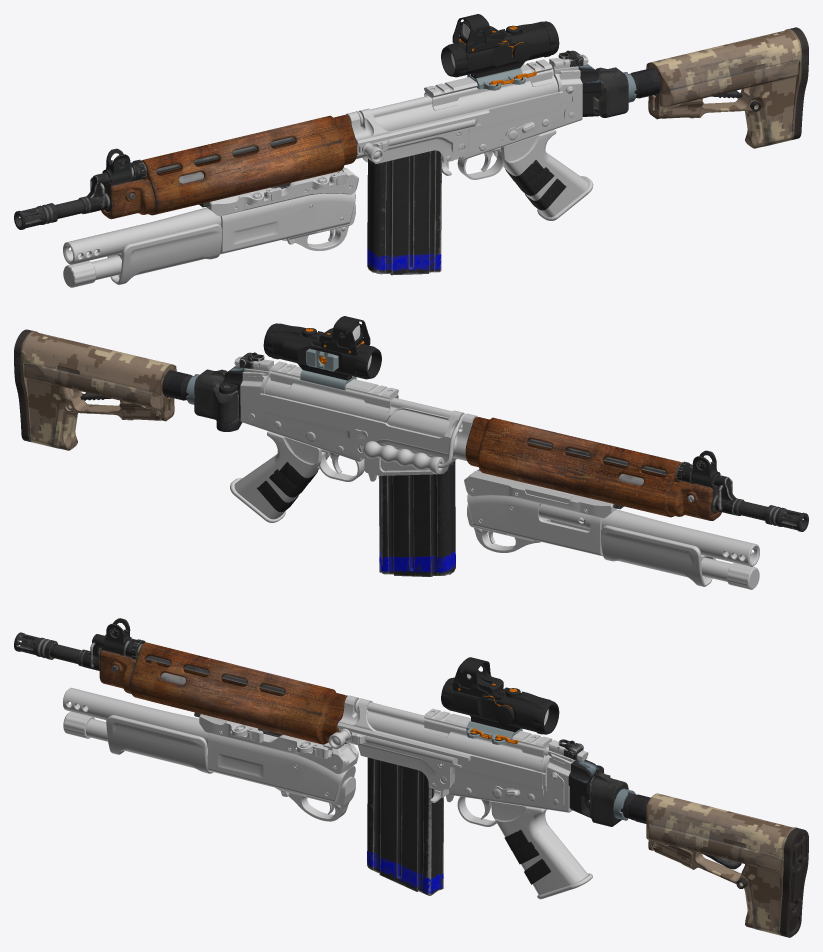
Rendered from FAL_FN_BeefEater_1.0.fbx.
3 views of the same model, one above another, from view 1: azimuth 30°, elevation 25°; view 2: azimuth 150°, elevation 25°; view 3: azimuth 330°, elevation 25° (orthographic).
Parts seen in each view (by area): view 1: Body 1, Masterkey 1, Forend, Heavy Stock, Magazine, Hybrid Scope, Stock Adapter, Body 2, Grip Tape, Muzzle Brake, Short Barrel; view 2: Body 1, Masterkey 1, Forend, Heavy Stock, Magazine, Hybrid Scope, Stock Adapter, Body 3, Grip Tape, Body 2, Muzzle Brake, Masterkey 2 (+1 smaller); view 3: Body 1, Masterkey 1, Forend, Heavy Stock, Magazine, Hybrid Scope, Stock Adapter, Body 2, Grip Tape, Muzzle Brake.
Part boxes in pixels (x1=…): Body 1: x1=345, y1=54, x2=593, y2=220; Masterkey 1: x1=63, y1=167, x2=358, y2=287; Forend: x1=84, y1=115, x2=357, y2=219; Heavy Stock: x1=623, y1=27, x2=808, y2=148; Magazine: x1=367, y1=150, x2=441, y2=275; Hybrid Scope: x1=441, y1=14, x2=559, y2=90; Stock Adapter: x1=578, y1=64, x2=628, y2=117; Body 2: x1=358, y1=119, x2=535, y2=175; Grip Tape: x1=505, y1=160, x2=566, y2=210; Muzzle Brake: x1=14, y1=203, x2=57, y2=229; Short Barrel: x1=55, y1=197, x2=89, y2=218; Body 1: x1=230, y1=356, x2=477, y2=522; Masterkey 1: x1=464, y1=469, x2=759, y2=589; Forend: x1=465, y1=416, x2=738, y2=520; Heavy Stock: x1=14, y1=329, x2=199, y2=450; Magazine: x1=378, y1=460, x2=455, y2=576; Hybrid Scope: x1=263, y1=316, x2=381, y2=390; Stock Adapter: x1=194, y1=366, x2=244, y2=431; Body 3: x1=363, y1=414, x2=465, y2=474; Grip Tape: x1=257, y1=462, x2=317, y2=512; Body 2: x1=322, y1=409, x2=449, y2=481; Muzzle Brake: x1=765, y1=505, x2=808, y2=531; Masterkey 2: x1=538, y1=504, x2=586, y2=527; Body 1: x1=337, y1=695, x2=592, y2=899; Masterkey 1: x1=63, y1=687, x2=358, y2=821; Forend: x1=82, y1=618, x2=347, y2=744; Heavy Stock: x1=613, y1=788, x2=808, y2=937; Magazine: x1=367, y1=757, x2=443, y2=895; Hybrid Scope: x1=441, y1=657, x2=559, y2=744; Stock Adapter: x1=568, y1=759, x2=628, y2=826; Body 2: x1=328, y1=728, x2=520, y2=819; Grip Tape: x1=504, y1=829, x2=550, y2=884; Muzzle Brake: x1=14, y1=632, x2=57, y2=659.
Bounding box in the file's own units: 10255 × 3025 × 935.
